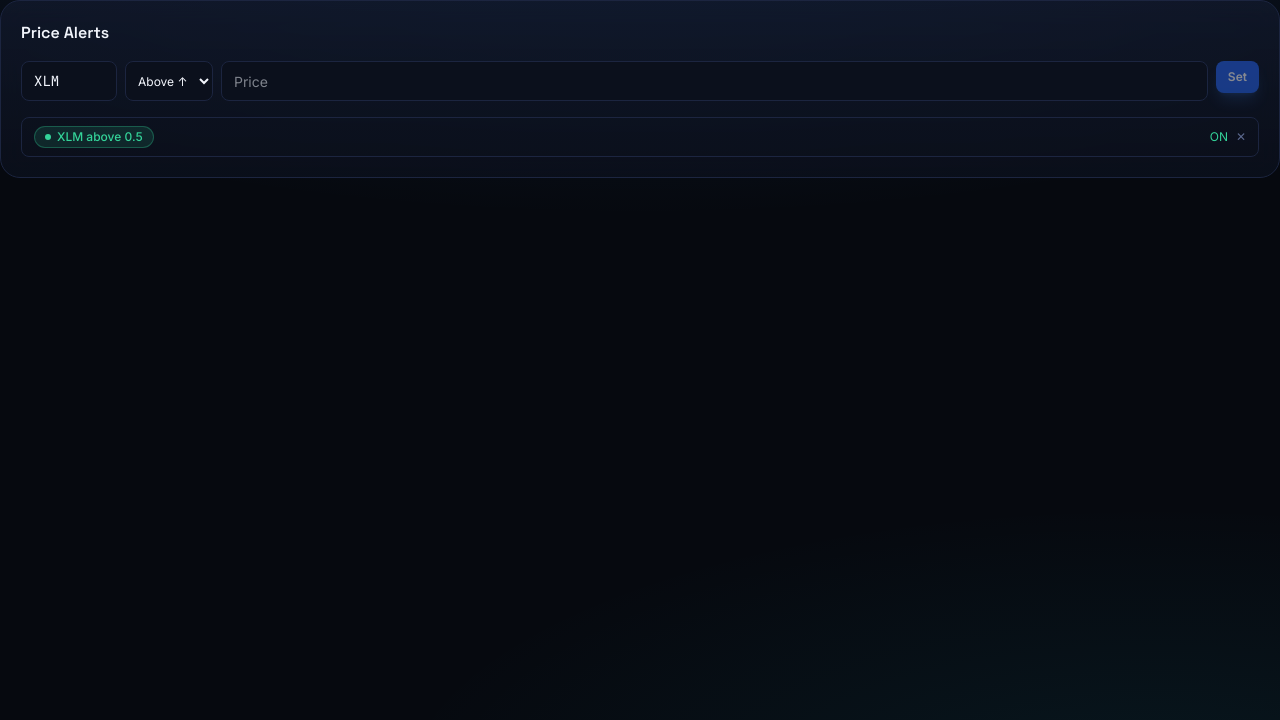
PriceAlertPanel › toggles alert enabled state
Click the button "ON": (1219, 137) [1210, 129, 1228, 145]
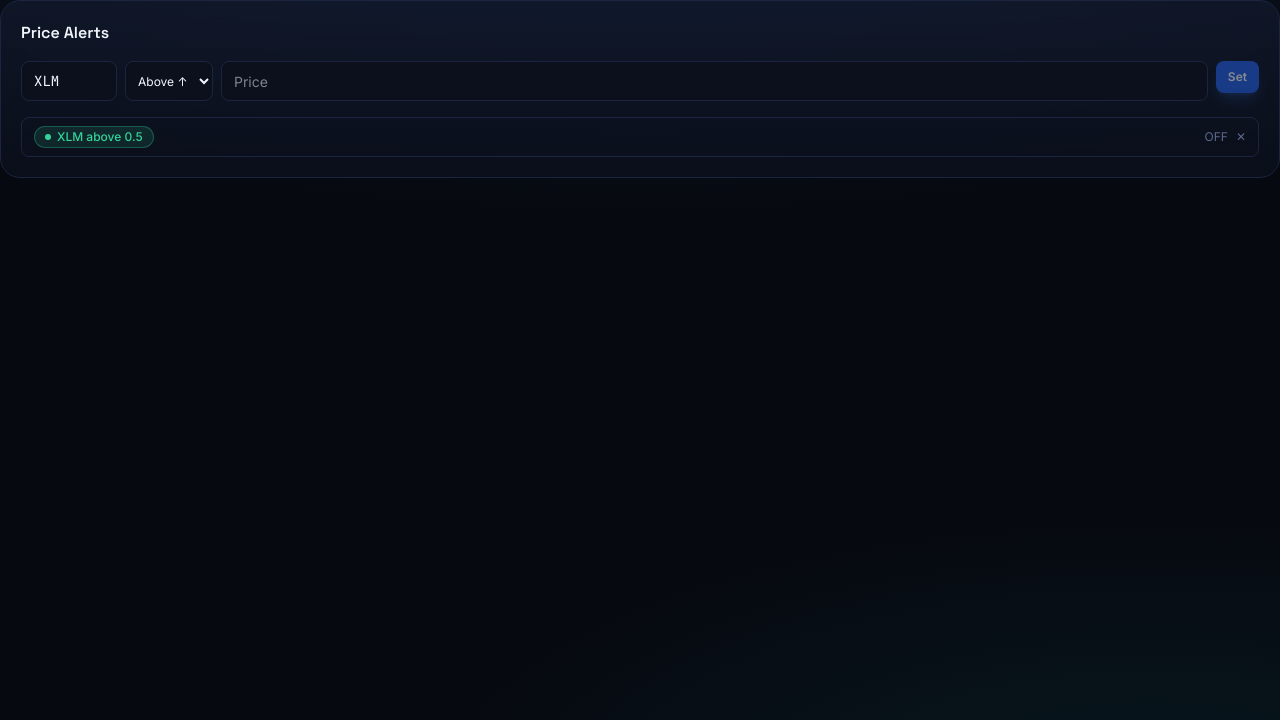
Check: the button "OFF" is shown, box [1205, 129, 1228, 145]
